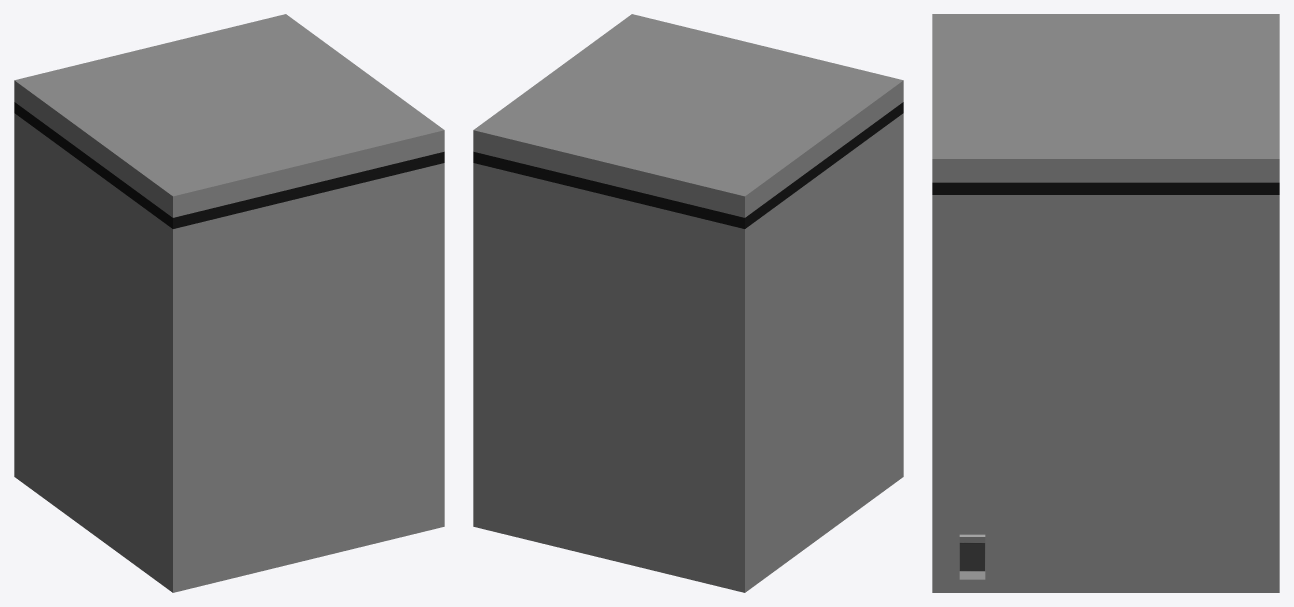
File: congelador.fbx
The picture shows the model from 3 angles, left to right: view 1: azimuth 30°, elevation 25°; view 2: azimuth 150°, elevation 25°; view 3: azimuth 270°, elevation 25°; orthographic projection. The views are drawn at different scales.
Visible parts, largest first — view 1: Cube; view 2: Cube; view 3: Cube.
Part boxes in pixels (bbox=[...]): Cube: bbox=[14, 14, 444, 592]; Cube: bbox=[473, 14, 903, 592]; Cube: bbox=[932, 14, 1279, 592].
Size of the model in its own units: 392 by 538 by 390.
